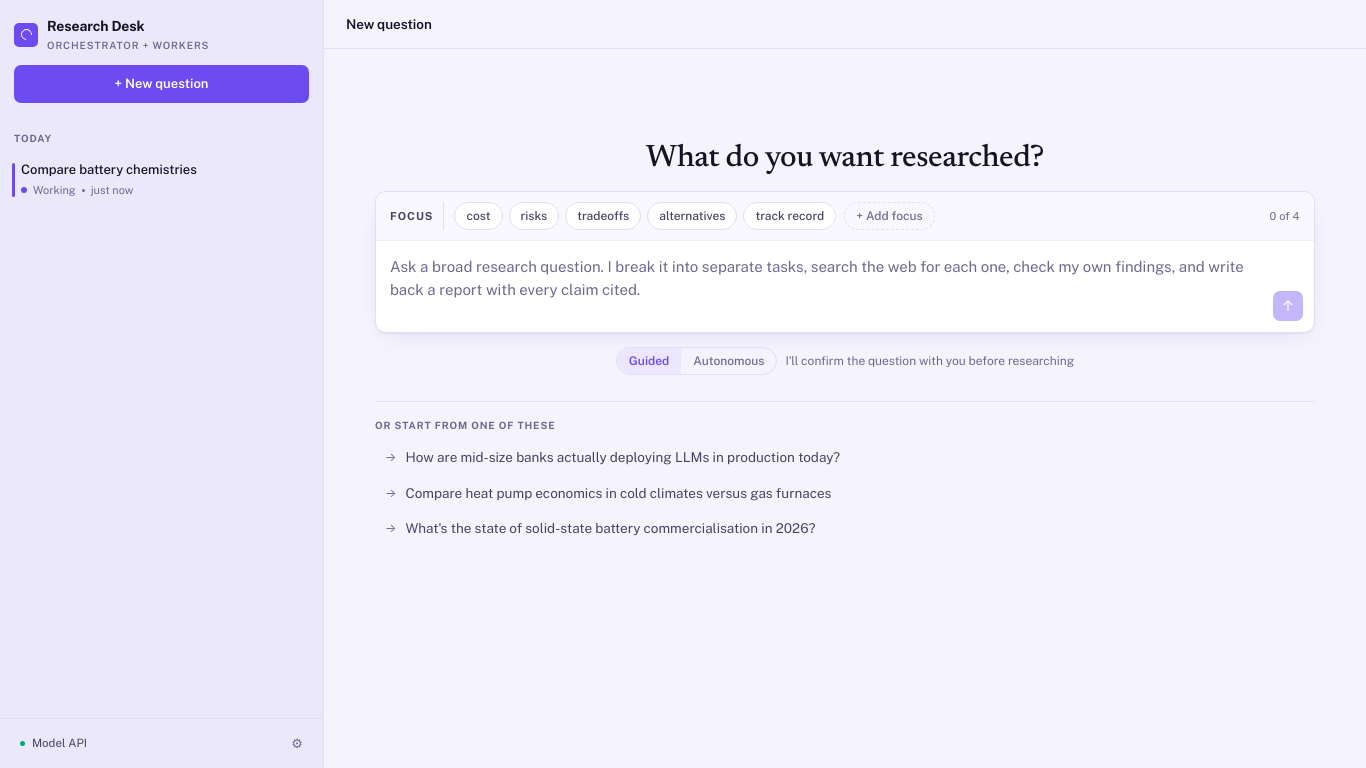
Test: App › returns to the composer only when New question is clicked
Step 1. Click the button "Compare battery chemistries Working just now" → click(162, 180), box [8,152,315,208]
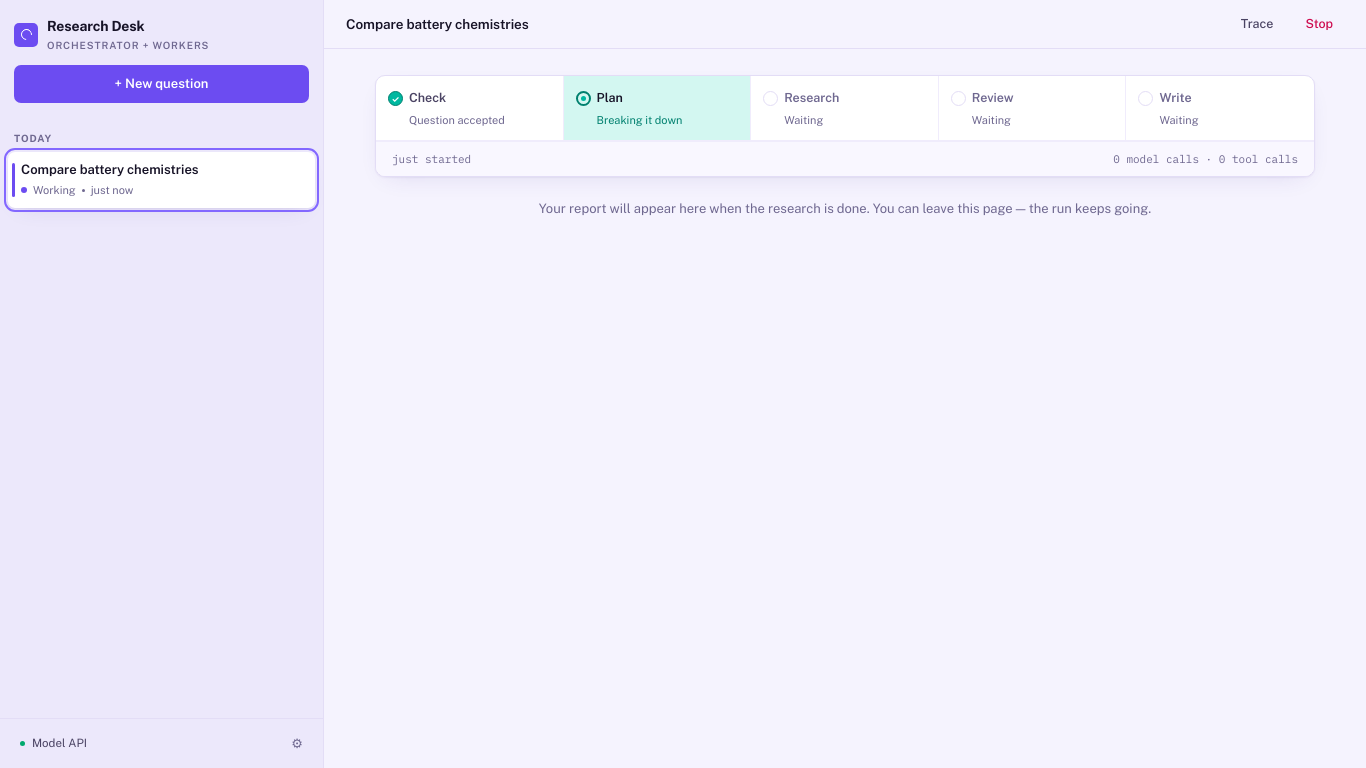
Check: the button "Trace" is shown, box [1230,9,1284,39]
Step 2. Click the button "+ New question" → click(162, 84), box [14,65,309,102]
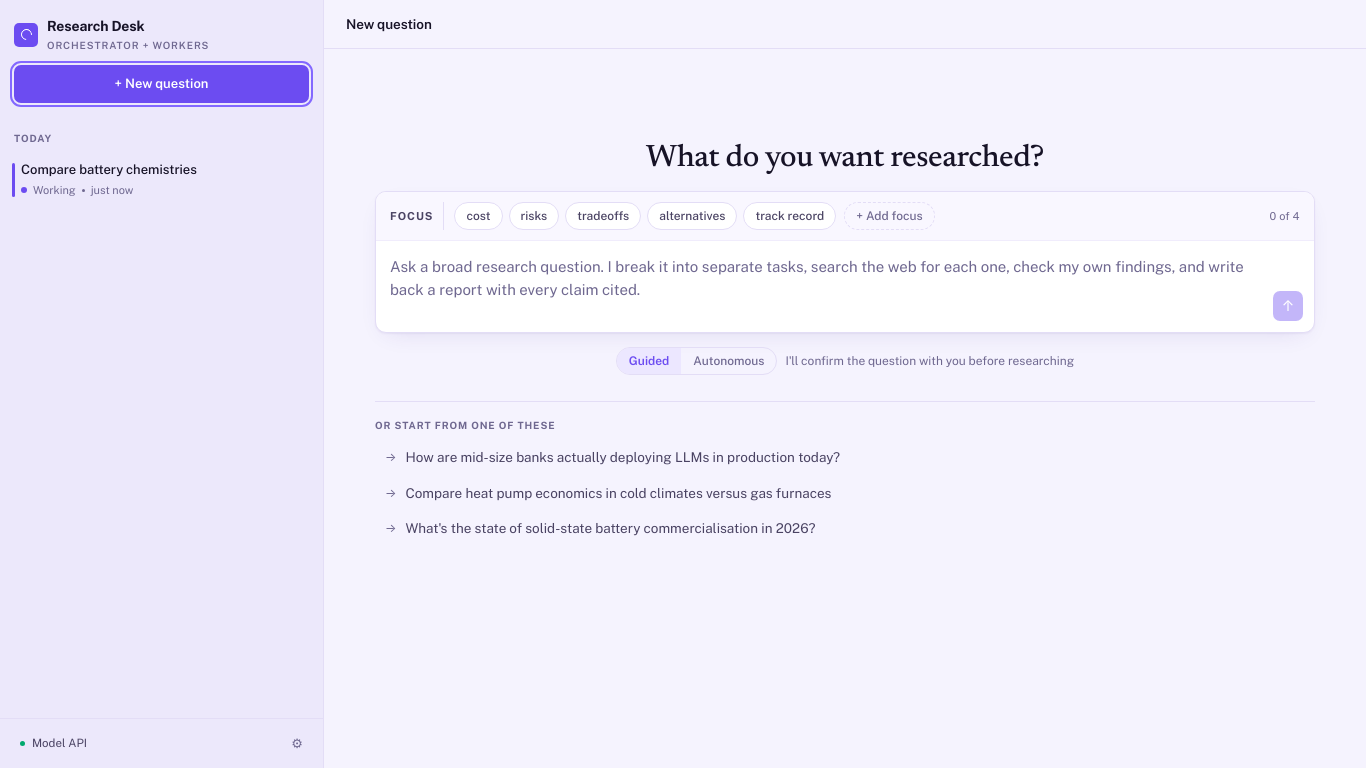
Check: the heading "What do you want researched?" is shown, box [646,143,1044,174]
